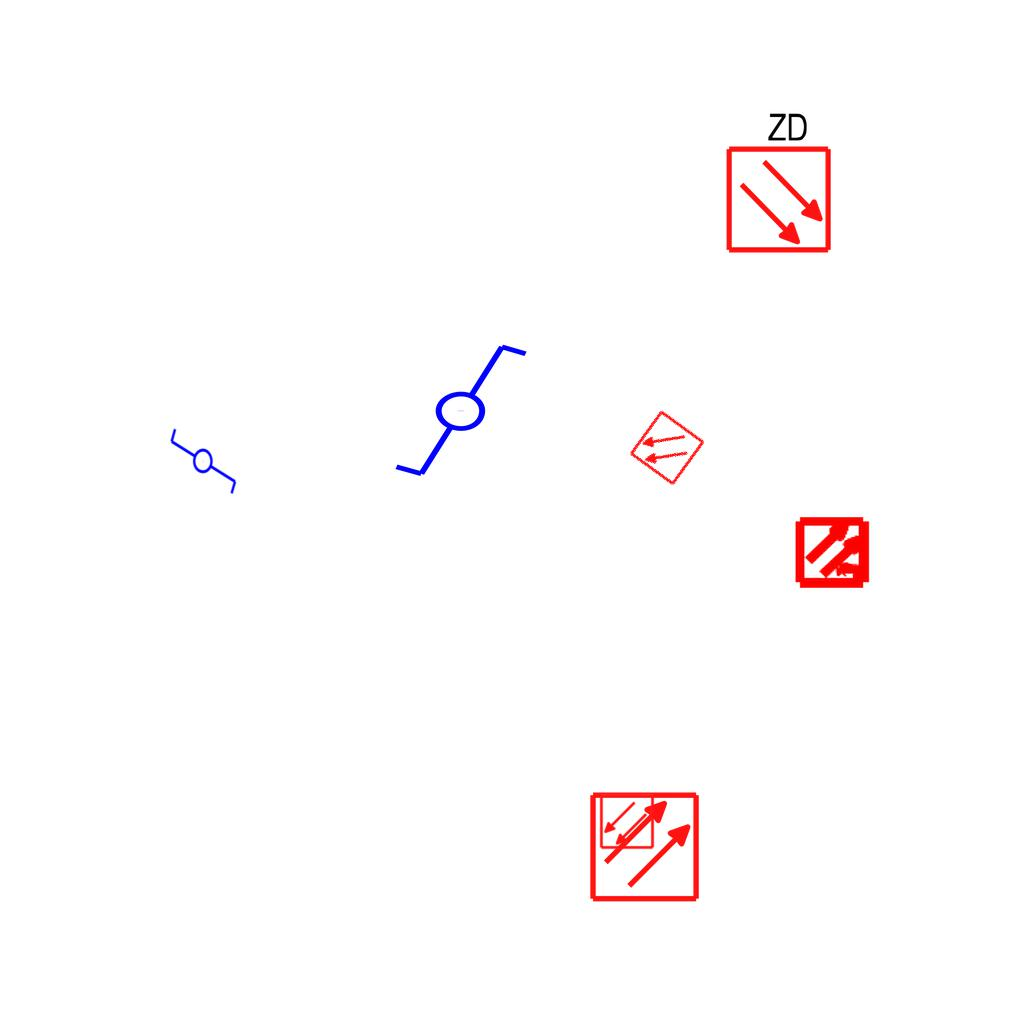OT_Multisensormelder_(Kombination_RMO_WMD): (778, 496, 891, 609)
RMO_Rauchmelder_optischer: (588, 790, 701, 903), (627, 408, 707, 488), (599, 794, 655, 850)
Wechselschalter: (374, 337, 531, 481), (168, 418, 240, 496)
ZD_Melder_in_Zwischendecke_mit_Revisionsoeffnung_mind_40_x_40_cm: (720, 106, 834, 255)
